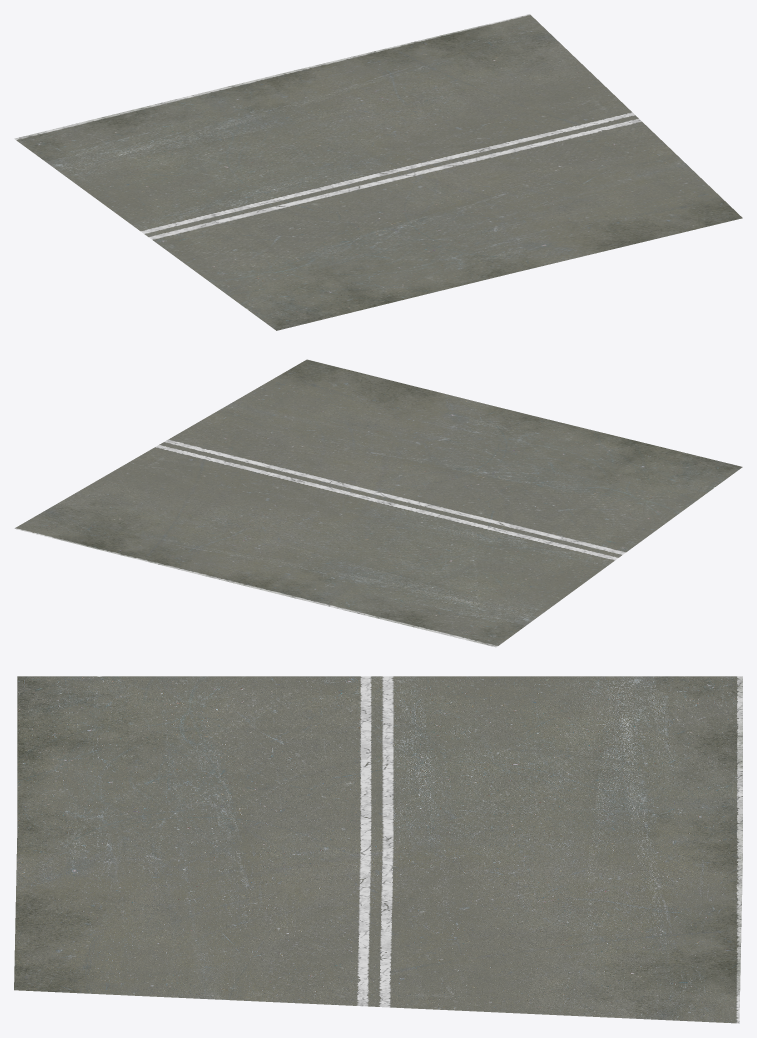
The picture shows the model from 3 angles, top to bottom: view 1: azimuth 30°, elevation 25°; view 2: azimuth 150°, elevation 25°; view 3: azimuth 270°, elevation 25°; orthographic projection. The views are drawn at different scales.
Parts seen in each view (by area): view 1: SM_HK_00_00.001; view 2: SM_HK_00_00.001; view 3: SM_HK_00_00.001.
Part boxes in pixels (box(x1,y1,x2,y2)): SM_HK_00_00.001: box(14, 14, 742, 330); SM_HK_00_00.001: box(14, 359, 742, 647); SM_HK_00_00.001: box(14, 676, 742, 1023).
Size of the model in its own units: 1818 by 0 by 1614.
